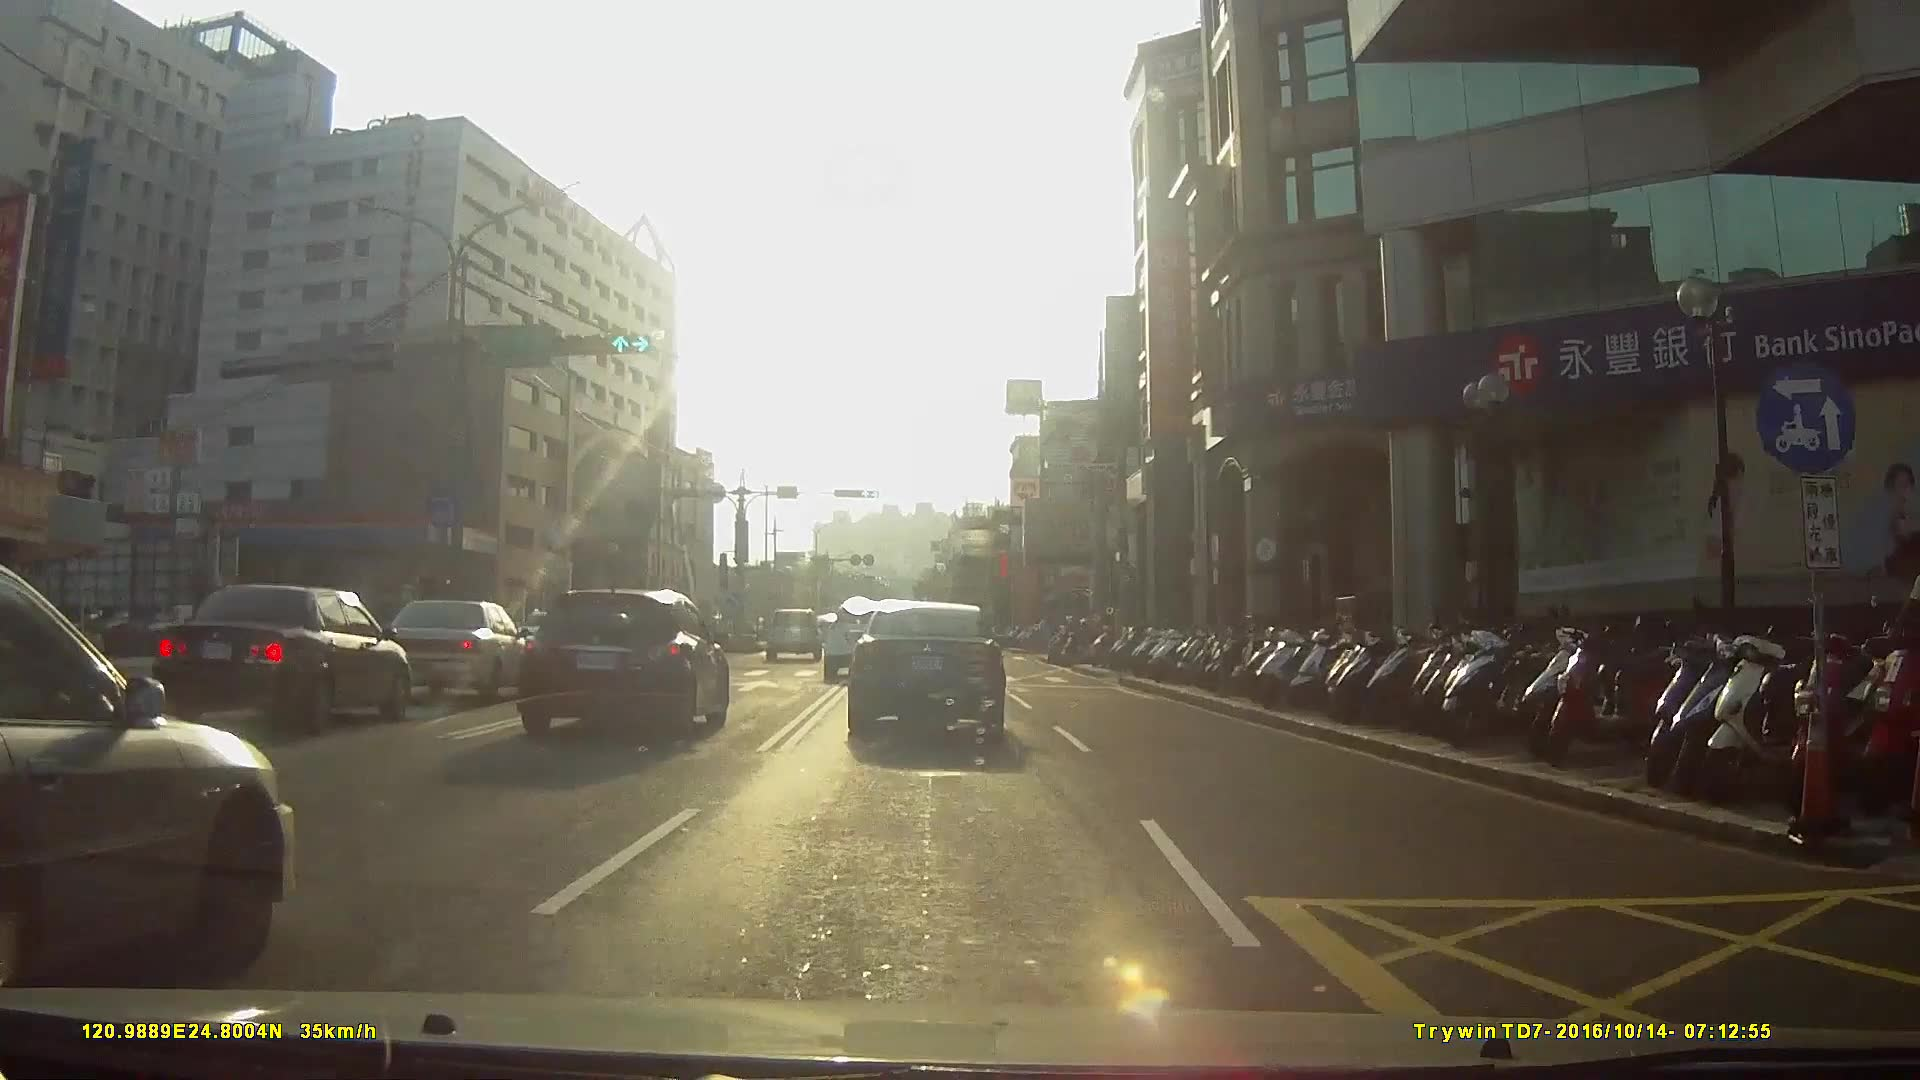pedestrian: (1895, 555, 1920, 677)
rider: (1058, 620, 1103, 669)
vehicle: (1, 566, 308, 1005), (142, 580, 416, 741), (508, 586, 744, 744), (843, 601, 1022, 742), (358, 596, 544, 707), (816, 599, 895, 683), (759, 606, 818, 661)
